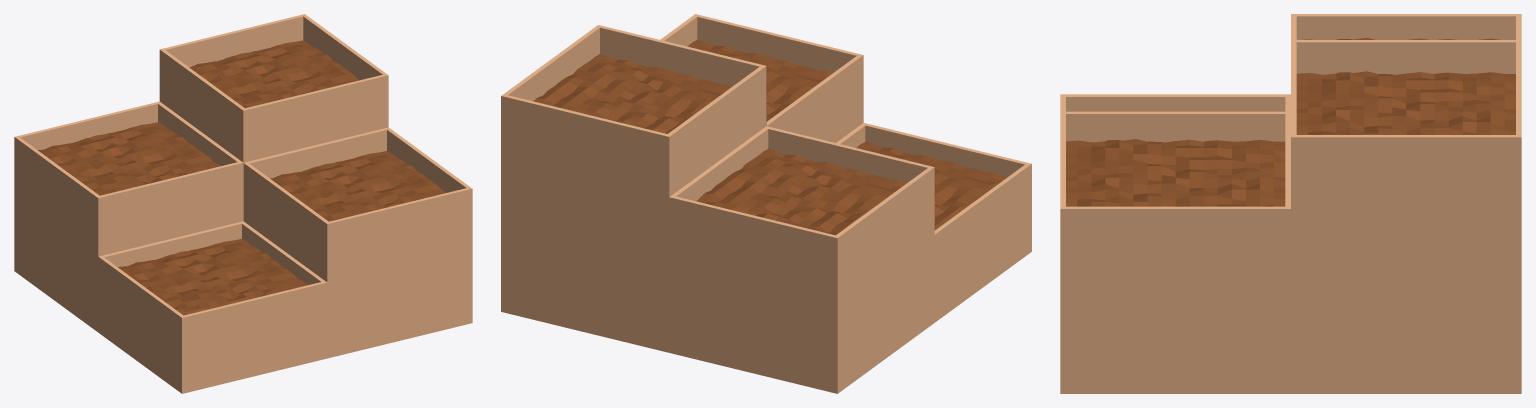
The model's file is mod_bg_bacdeplantation2M.fbx.
3 renders of one model, left to right at view 1: azimuth 30°, elevation 25°; view 2: azimuth 150°, elevation 25°; view 3: azimuth 270°, elevation 25°, orthographic. The views are drawn at different scales.
Parts seen in each view (by area): view 1: Bac de plantation 2Merge; view 2: Bac de plantation 2Merge; view 3: Bac de plantation 2Merge.
Boxes of the visible parts, bbox=[...] form: Bac de plantation 2Merge: bbox=[14, 14, 472, 393]; Bac de plantation 2Merge: bbox=[501, 14, 1031, 393]; Bac de plantation 2Merge: bbox=[1060, 14, 1521, 393].
Bounding box in the file's own units: 114 × 70.2 × 114.
